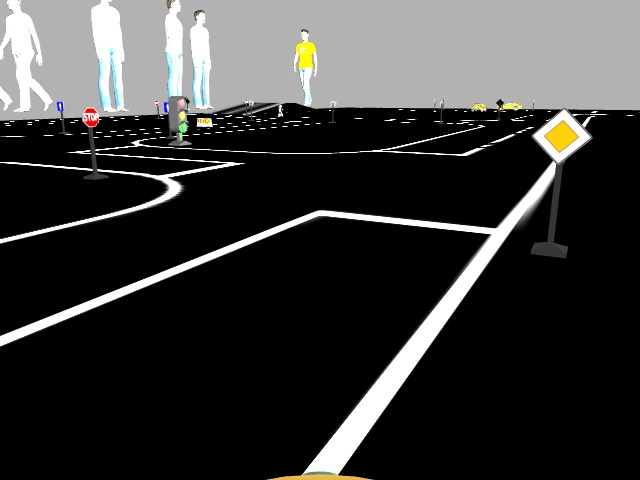ClosedRoadStand: (196, 119, 212, 127)
Priority: (539, 108, 583, 162)
Stop: (79, 109, 99, 125)
TrafficLight: (167, 96, 185, 132)
